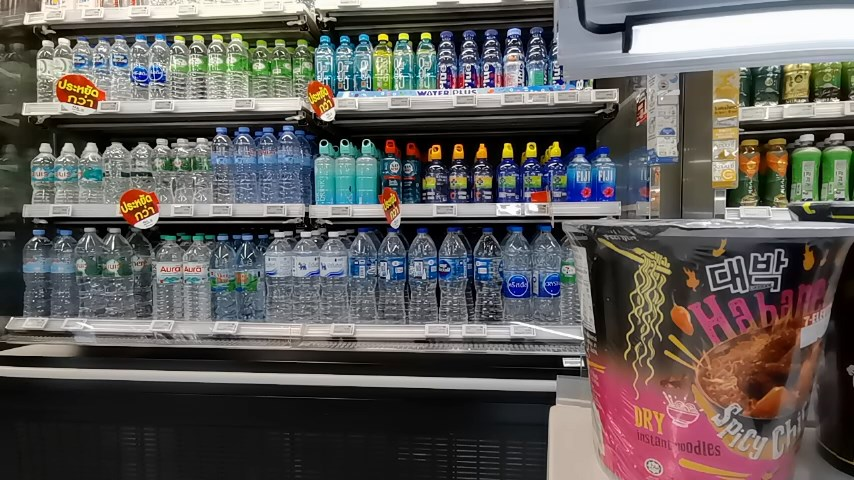0-0: (77, 226, 158, 317)
